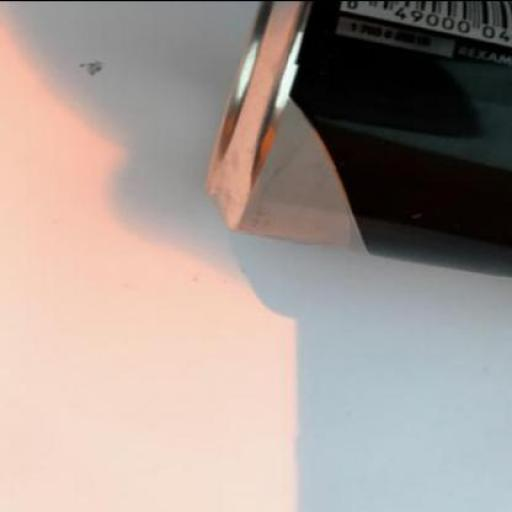metal: (203, 1, 511, 277)
